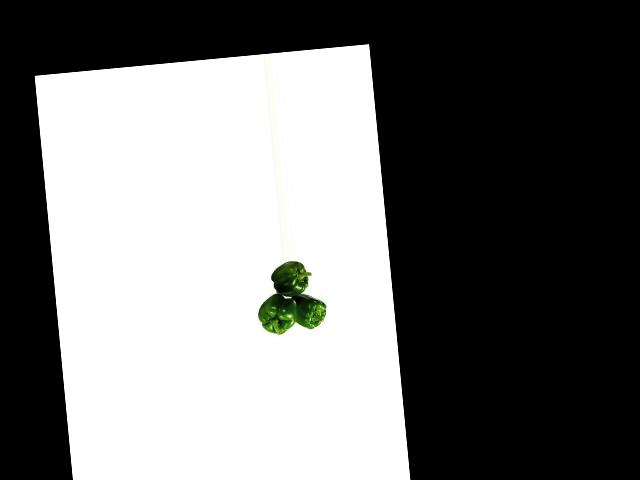bell_pepper: (252, 292, 300, 339)
